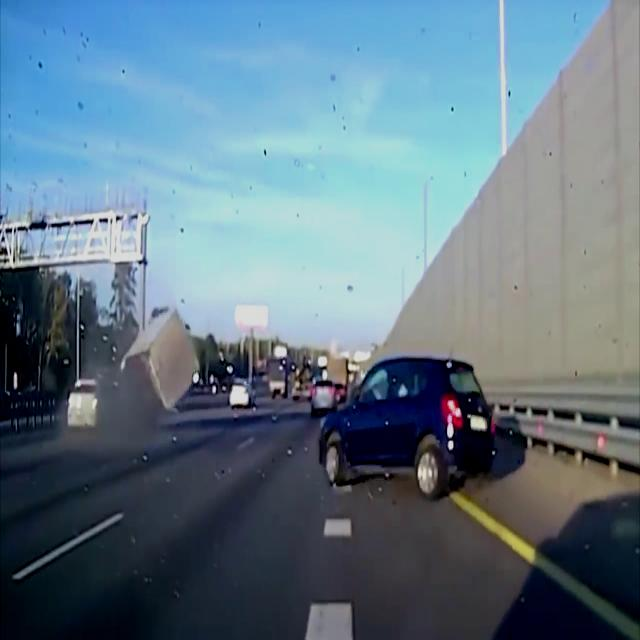accident: (320, 358, 550, 508), (62, 310, 204, 440)
non-accident: (227, 357, 291, 409), (309, 358, 347, 414)
